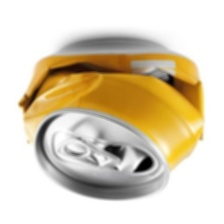can: (13, 32, 208, 206)
